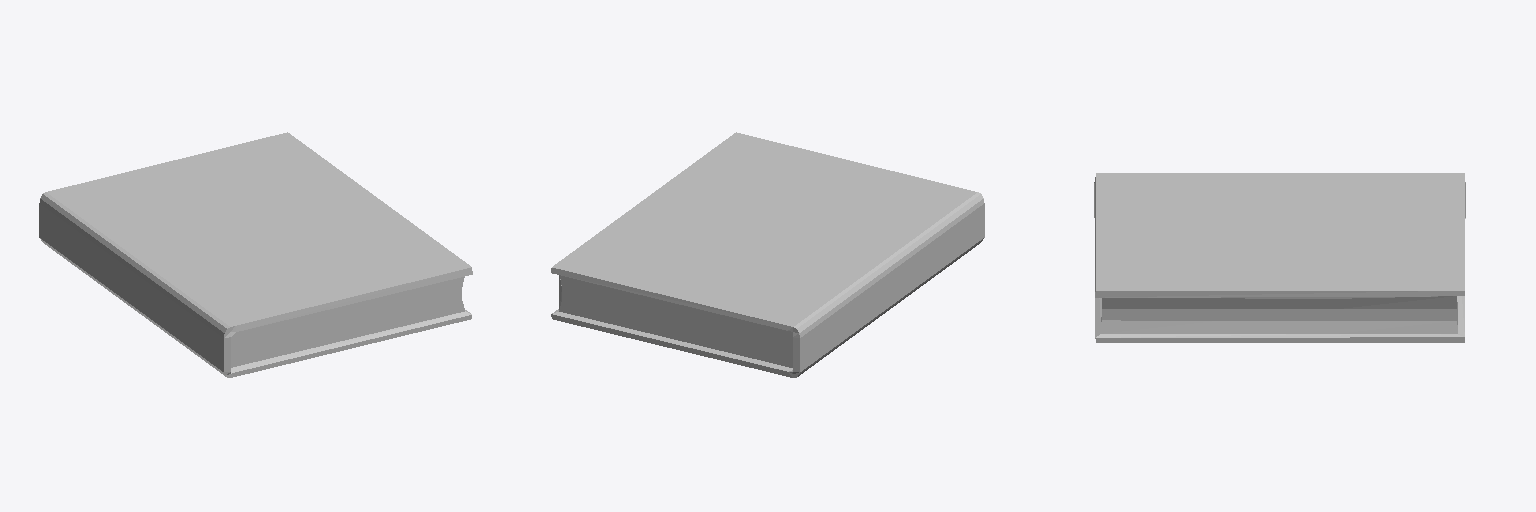
Rendered from book.obj.
The picture shows the model from 3 angles: view 1: azimuth 30°, elevation 25°; view 2: azimuth 150°, elevation 25°; view 3: azimuth 270°, elevation 25°; orthographic projection.
Parts seen in each view (by area): view 1: Cube.040_Cube.007; view 2: Cube.040_Cube.007; view 3: Cube.040_Cube.007.
Boxes of the visible parts, <box> form: Cube.040_Cube.007: <box>39,132,472,377</box>; Cube.040_Cube.007: <box>551,132,984,377</box>; Cube.040_Cube.007: <box>1094,173,1465,342</box>.
Bounding box in the file's own units: 2 × 0.4001 × 2.59.